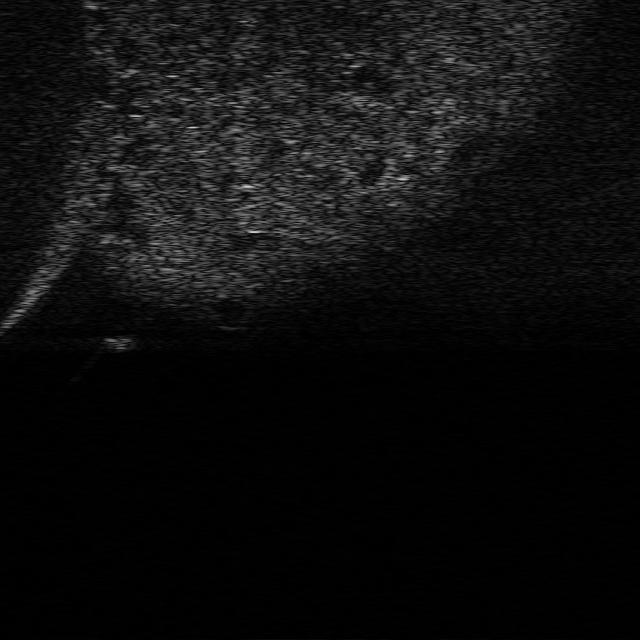cube: (91, 330, 141, 354)
